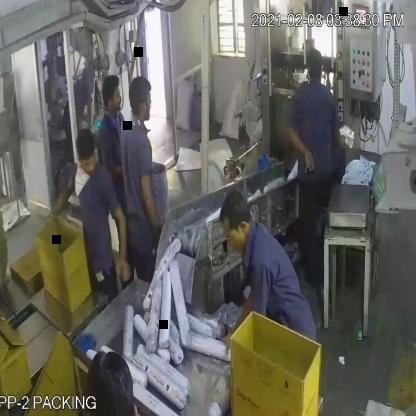no_glove: (278, 123, 330, 190), (137, 164, 173, 248), (102, 195, 136, 282), (46, 173, 92, 236)
